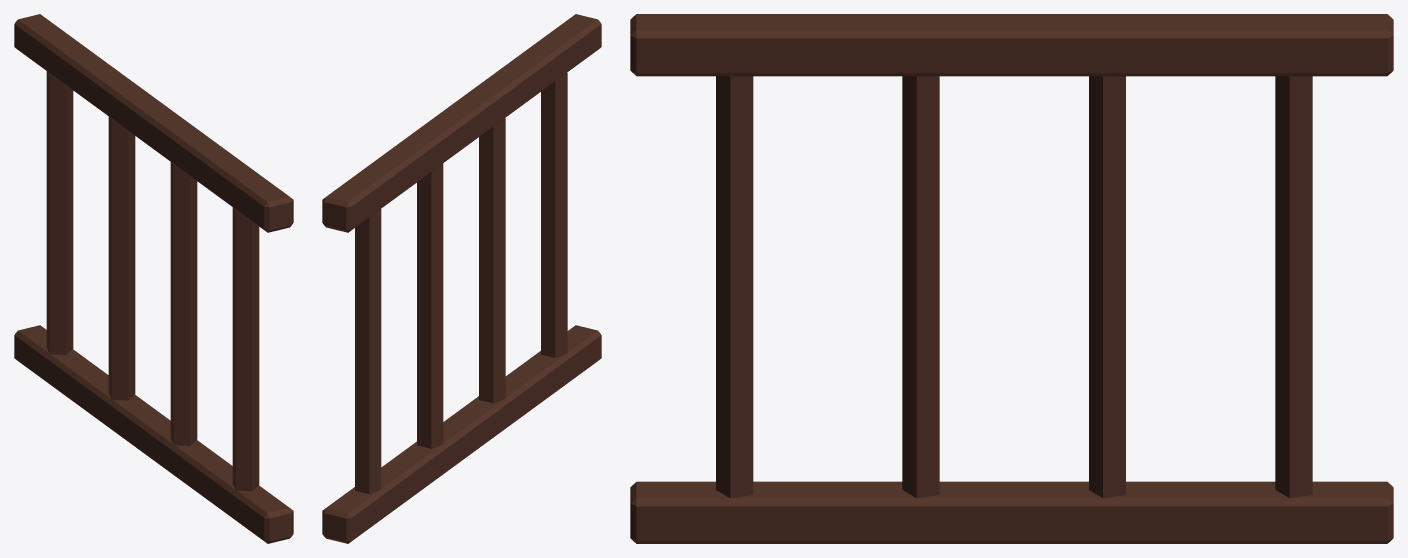
Rendered from railing.glb.
3 views of the same model, side by side, from view 1: azimuth 30°, elevation 25°; view 2: azimuth 150°, elevation 25°; view 3: azimuth 270°, elevation 25° (orthographic). The views are drawn at different scales.
Visible parts, largest first — view 1: Railing; view 2: Railing; view 3: Railing.
Part boxes in pixels (box(x1,y1,x2,y2)): Railing: box(14, 14, 293, 543); Railing: box(322, 14, 601, 543); Railing: box(630, 14, 1393, 543).
Size of the model in its own units: 0.0666 by 0.7429 by 1.
